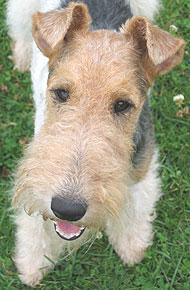wire-haired_fox_terrier: (6, 0, 186, 288)
